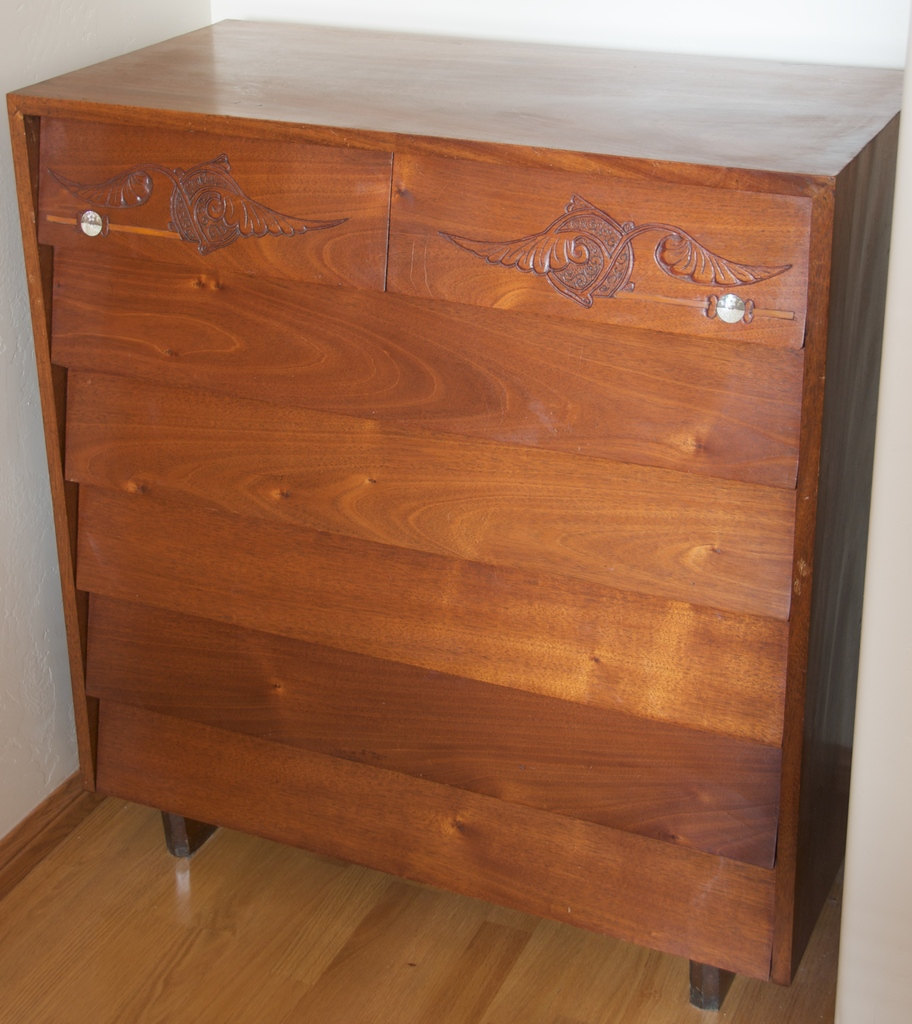cabinet door: (75, 393, 792, 563), (87, 501, 787, 674), (59, 273, 823, 425), (115, 627, 767, 788), (136, 750, 761, 907), (393, 155, 808, 319), (61, 118, 393, 273)
